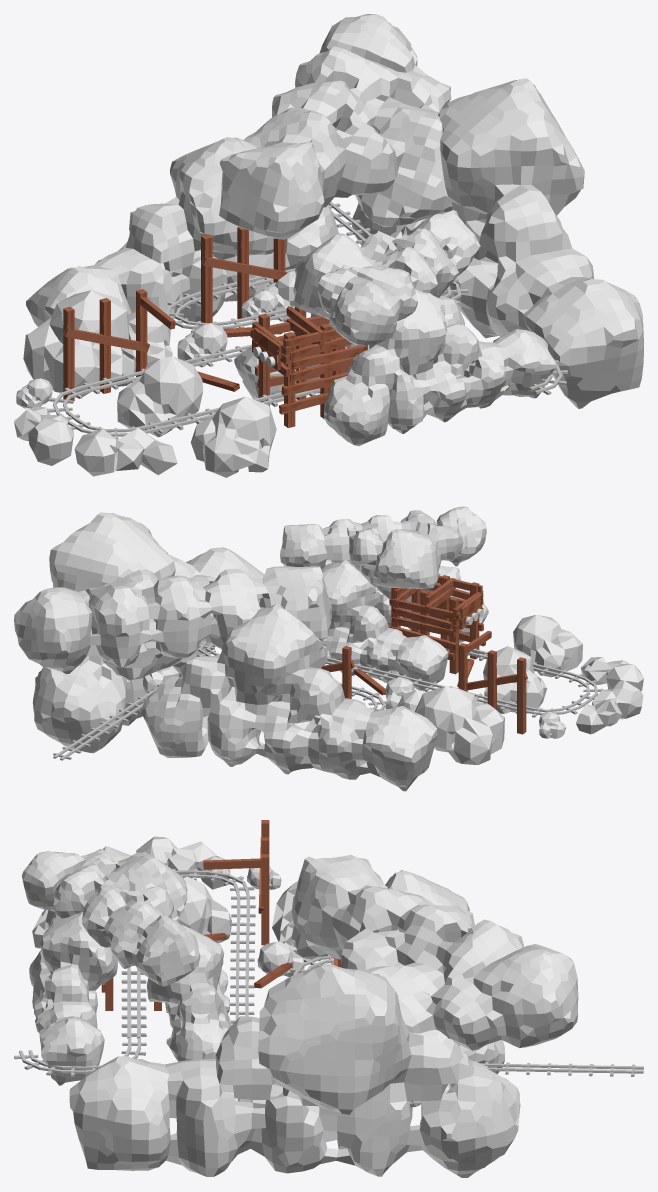
The model's file is Map01_current.fbx.
3 views of the same model, one above another, from view 1: azimuth 30°, elevation 25°; view 2: azimuth 150°, elevation 25°; view 3: azimuth 270°, elevation 25° (orthographic). The views are drawn at different scales.
Parts seen in each view (by area): view 1: Sphere.001, Sphere.002, Sphere.004, Sphere.005, Sphere.006, rail, Sphere.012, Sphere.010, Sphere.011, Icosphere.002, Cube.028, Icosphere.001 (+13 smaller); view 2: Sphere.004, Sphere.002, Sphere.001, Sphere.006, Sphere.003, Sphere.012, rail, Sphere.010, Icosphere.001, Sphere.011, Cube.028, Icosphere.002 (+10 smaller); view 3: Sphere.001, Sphere.002, Sphere.006, Sphere.005, rail, Sphere.003, Sphere.004, Icosphere.001, Sphere.011, Cube.028, Sphere.019, Sphere.013 (+2 smaller).
Boxes of the visible parts, <box> form: Sphere.001: <box>352,78,643,408</box>; Sphere.002: <box>219,14,452,239</box>; Sphere.004: <box>26,137,338,330</box>; Sphere.005: <box>324,289,556,445</box>; Sphere.006: <box>293,210,480,345</box>; rail: <box>47,201,567,439</box>; Sphere.012: <box>23,290,134,398</box>; Sphere.010: <box>190,396,276,477</box>; Sphere.011: <box>117,356,203,437</box>; Icosphere.002: <box>74,428,177,476</box>; Cube.028: <box>63,289,147,401</box>; Icosphere.001: <box>14,406,73,465</box>; Sphere.004: <box>141,604,437,791</box>; Sphere.002: <box>14,566,331,679</box>; Sphere.001: <box>32,512,264,753</box>; Sphere.006: <box>280,506,486,588</box>; Sphere.003: <box>321,560,448,691</box>; Sphere.012: <box>415,686,504,764</box>; rail: <box>53,642,603,760</box>; Sphere.010: <box>513,615,582,677</box>; Icosphere.001: <box>576,680,643,734</box>; Sphere.011: <box>483,646,547,713</box>; Cube.028: <box>458,643,526,734</box>; Icosphere.002: <box>581,657,643,691</box>; Sphere.001: <box>69,964,520,1177</box>; Sphere.002: <box>292,854,578,1050</box>; Sphere.006: <box>22,849,200,986</box>; Sphere.005: <box>29,911,117,1085</box>; rail: <box>14,869,643,1076</box>; Sphere.003: <box>146,924,231,1061</box>; Sphere.004: <box>385,870,504,1074</box>; Icosphere.001: <box>136,836,230,889</box>; Sphere.011: <box>178,876,231,943</box>; Cube.028: <box>261,820,269,945</box>; Sphere.019: <box>257,941,304,977</box>; Sphere.013: <box>279,920,327,961</box>.
Bounding box in the file's own units: 4308 × 1513 × 3901.
